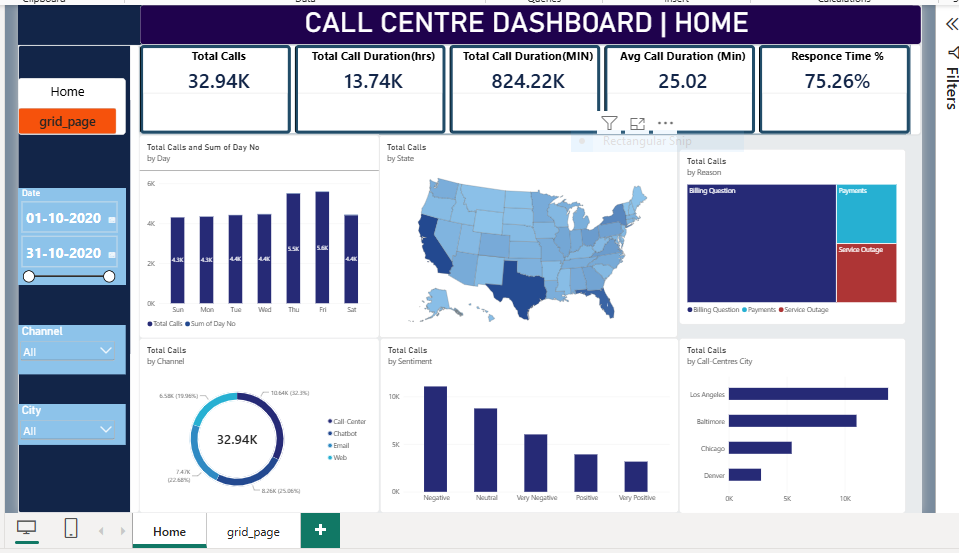

The page's visual inventory and layout, read from the dashboard file:
{"tool":"powerbi","page":{"name":"Home","canvas":[1920,1080],"ordinal":0},"visuals":[{"type":"shape","box":[0,0,1920,84.9],"z":0},{"type":"shape","box":[0,85.1,257.6,994.7],"z":1000},{"type":"cardVisual","fields":{"Data":["Call Center_Call Center.Total Calls","Call Center_Call Center.Total Call Duration(hrs)","Call Center_Call Center.Total Call Duration(MIN)","Call Center_Call Center.Avg Call Duration (Min)","Call Center_Call Center.Responce Time %"]},"box":[257.5,83.3,1662.5,193.1],"z":2000},{"type":"textbox","title":"CALL  CENTRE DASHBOARD | HOME","box":[259,0,1661,83.7],"z":3000},{"type":"columnChart","fields":{"Category":["Date Table.Day"],"Y":["Call Center_Call Center.Total Calls","Sum(Date Table.Day No)"]},"box":[257.5,276.4,511.2,431.7],"z":4000},{"type":"shapeMap","fields":{"Category":["Call Center_Call Center.State"],"Value":["Call Center_Call Center.Total Calls"]},"box":[768.5,277.2,635,430.9],"z":5000},{"type":"treemap","fields":{"Group":["Call Center_Call Center.Reason"],"Values":["Call Center_Call Center.Total Calls"]},"box":[1404.5,306.5,482.1,373.4],"z":6000},{"type":"donutChart","fields":{"Category":["Call Center_Call Center.Channel"],"Y":["Call Center_Call Center.Total Calls"]},"box":[258,708,511,372],"z":7000},{"type":"columnChart","fields":{"Category":["Call Center_Call Center.Sentiment"],"Y":["Call Center_Call Center.Total Calls"]},"box":[769,708,635,372],"z":8000},{"type":"barChart","fields":{"Category":["Call Center_Call Center.Call-Centres City"],"Y":["Call Center_Call Center.Total Calls"]},"box":[1404.5,707.8,482.1,373.4],"z":9000},{"type":"slicer","fields":{"Values":["Date Table.Date"]},"box":[0,389.8,228.5,206.1],"z":10000},{"type":"slicer","fields":{"Values":["Call Center_Call Center.Channel"]},"box":[0,681.1,228.5,105.3],"z":11000},{"type":"slicer","fields":{"Values":["Call Center_Call Center.City"]},"box":[0,849.1,228.5,87.4],"z":12000},{"type":"pageNavigator","box":[0,154.6,228.5,121],"z":13000}]}

Visuals, with their boxes on the page's 1920x1080 design canvas (x1, y1, x2, y2). These are canvas units, not pixel positions in the 959x553 screenshot, which may show the page scaled, cropped or inside an application window:
shape: 0, 0, 1920, 85
shape: 0, 85, 258, 1080
cardVisual - Call Center_Call Center.Total Calls x Call Center_Call Center.Total Call Duration(hrs): 258, 83, 1920, 276
"CALL  CENTRE DASHBOARD | HOME" textbox: 259, 0, 1920, 84
columnChart - Date Table.Day x Call Center_Call Center.Total Calls: 258, 276, 769, 708
shapeMap - Call Center_Call Center.State x Call Center_Call Center.Total Calls: 768, 277, 1404, 708
treemap - Call Center_Call Center.Reason x Call Center_Call Center.Total Calls: 1404, 306, 1887, 680
donutChart - Call Center_Call Center.Channel x Call Center_Call Center.Total Calls: 258, 708, 769, 1080
columnChart - Call Center_Call Center.Sentiment x Call Center_Call Center.Total Calls: 769, 708, 1404, 1080
barChart - Call Center_Call Center.Call-Centres City x Call Center_Call Center.Total Calls: 1404, 708, 1887, 1081
slicer - Date Table.Date: 0, 390, 228, 596
slicer - Call Center_Call Center.Channel: 0, 681, 228, 786
slicer - Call Center_Call Center.City: 0, 849, 228, 936
pageNavigator: 0, 155, 228, 276
